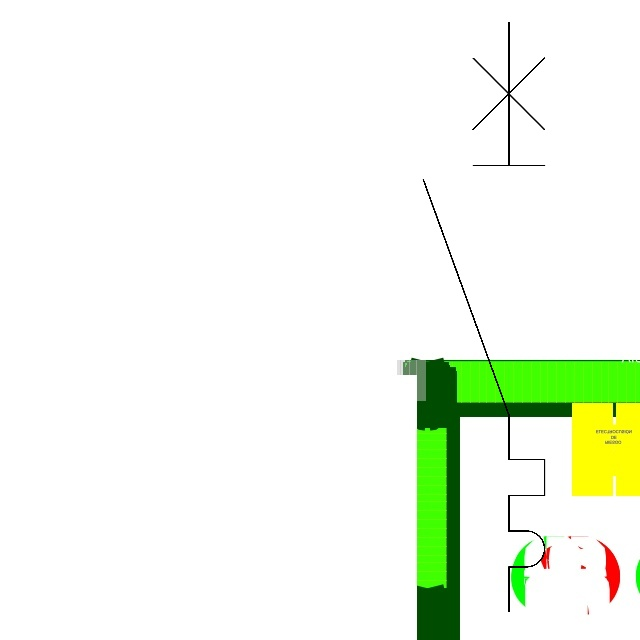interruptor_termomagnetico: (408, 7, 560, 627)
